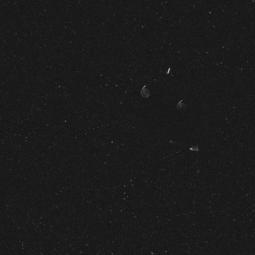proba_3_csc: (120, 51, 218, 162)
